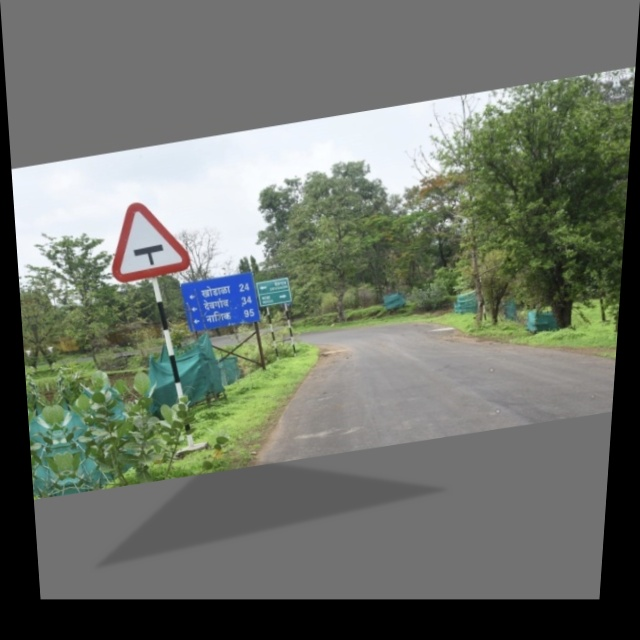T_Intersection: (90, 184, 201, 289)
